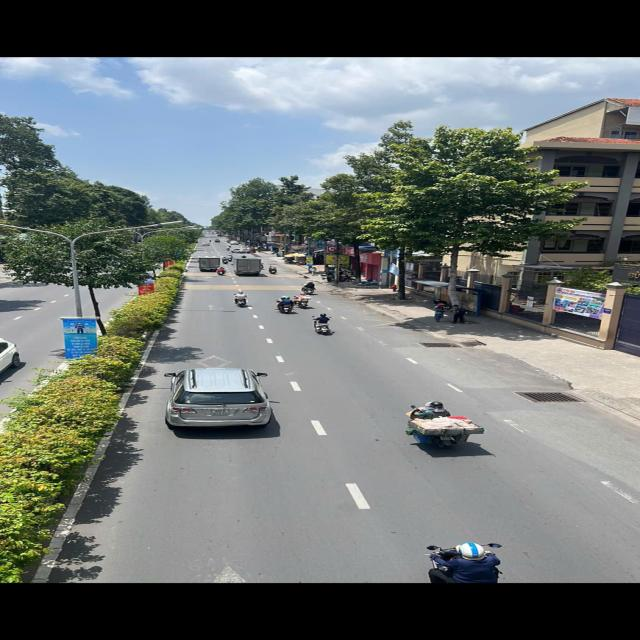Truck: (235, 258, 262, 276), (196, 258, 223, 272), (213, 238, 220, 242)
car: (166, 366, 270, 430), (232, 249, 250, 253), (230, 240, 240, 245), (202, 242, 210, 246)
motobyte: (423, 545, 506, 587), (403, 401, 478, 444), (308, 314, 335, 335), (274, 296, 293, 314), (228, 293, 252, 307), (294, 293, 311, 308), (304, 282, 316, 294), (216, 267, 228, 277), (271, 265, 280, 276), (220, 257, 228, 264), (225, 245, 231, 251), (228, 254, 232, 261)
